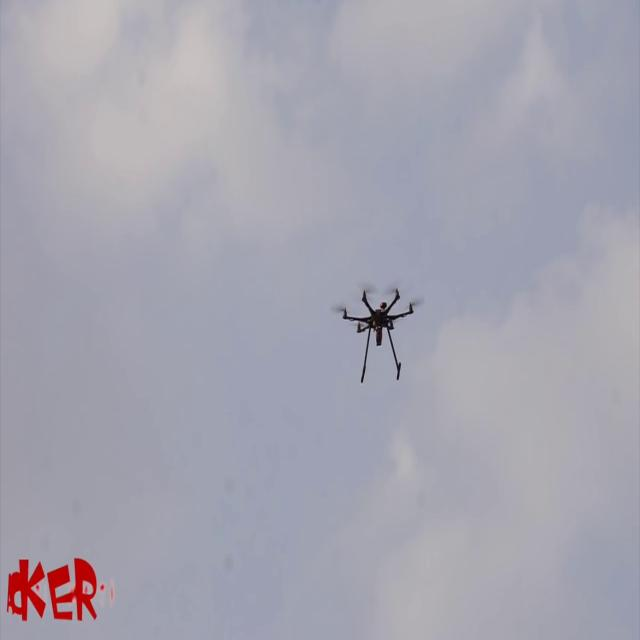drone: (334, 288, 422, 396)
